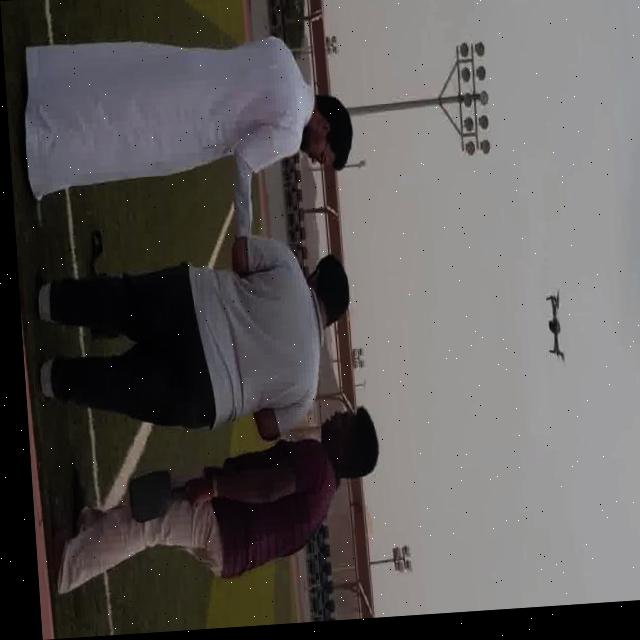drone: (539, 279, 571, 381)
